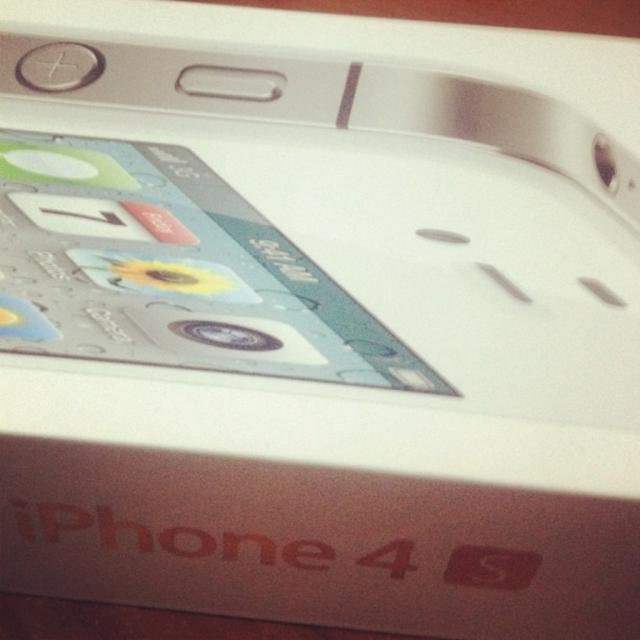Mobile-phone: (0, 126, 462, 394)
